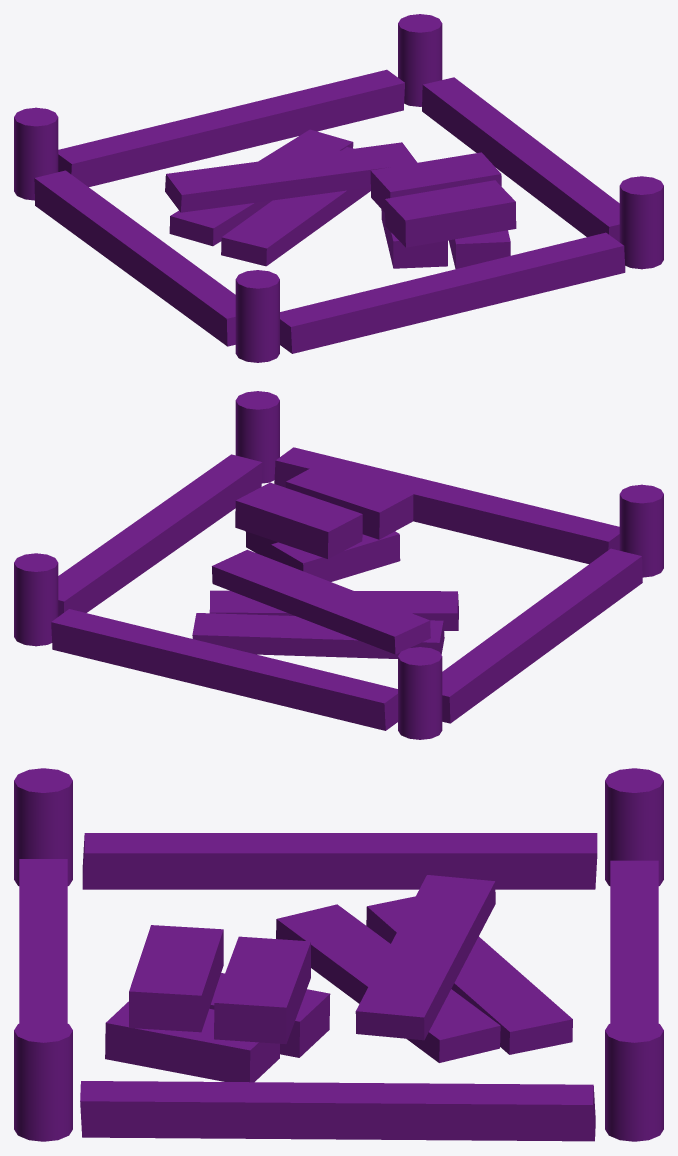
Rendered from building-camp.fbx.
The picture shows the model from 3 angles, top to bottom: view 1: azimuth 30°, elevation 25°; view 2: azimuth 150°, elevation 25°; view 3: azimuth 270°, elevation 25°; orthographic projection. The views are drawn at different scales.
Visible parts, largest first — view 1: BuildingCamp; view 2: BuildingCamp; view 3: BuildingCamp.
Part boxes in pixels (x1,y1,x2,y2): BuildingCamp: [14, 14, 663, 362]; BuildingCamp: [14, 391, 663, 739]; BuildingCamp: [14, 768, 663, 1141].
Bounding box in the file's own units: 220 × 36.95 × 220.
